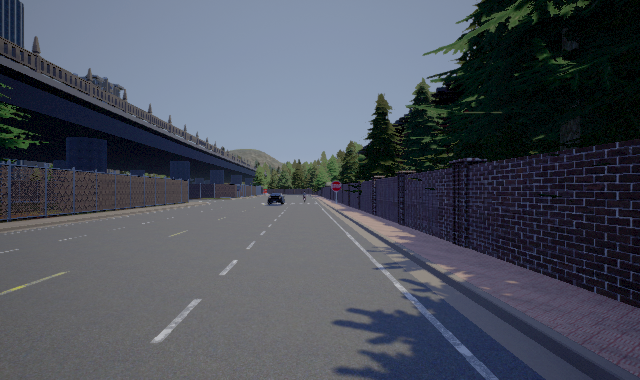traffic_sign: (331, 181, 342, 192)
vehicle: (266, 190, 287, 204)
